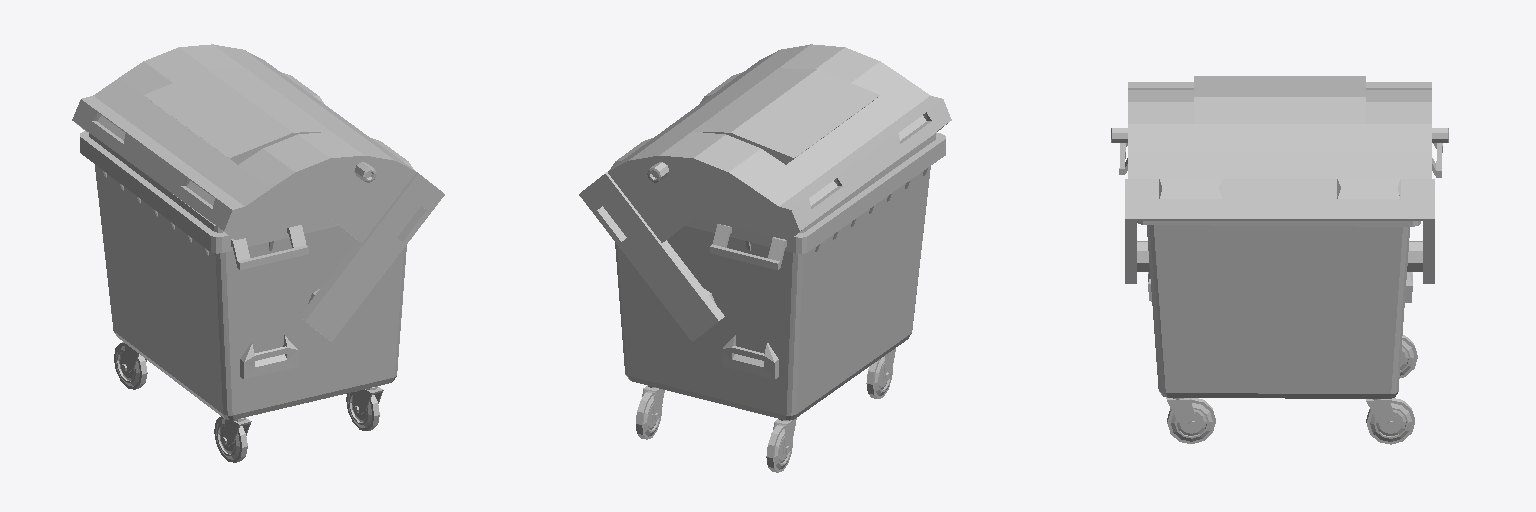
Rendered from 垃圾桶.obj.
3 views of the same model, side by side, from view 1: azimuth 30°, elevation 25°; view 2: azimuth 150°, elevation 25°; view 3: azimuth 270°, elevation 25° (orthographic).
Visible parts, largest first — view 1: Cube; view 2: Cube; view 3: Cube.
Part boxes in pixels (left/top/right/bottom): Cube: left=72, top=44, right=444, bottom=462; Cube: left=579, top=44, right=951, bottom=472; Cube: left=1111, top=76, right=1448, bottom=444.
Bounding box in the file's own units: 2.59 × 3.46 × 3.39.